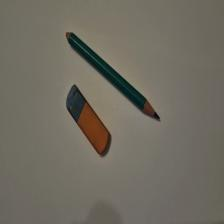eraser: (67, 85, 112, 156)
pencil: (67, 32, 161, 121)
